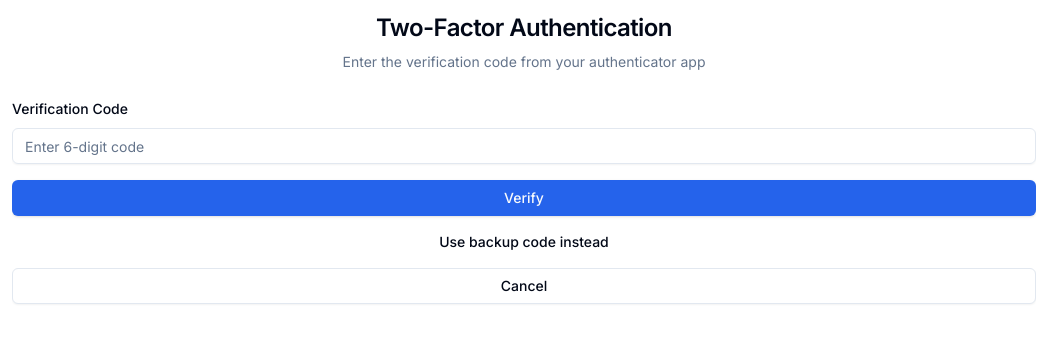
Test case: TwoFactorVerify › should handle verification errors
Note: Submit code
Type "123456" into the field with placeholder "Enter 6-digit code".
click(524, 146); type("123456")  # box [12,128,1036,164]
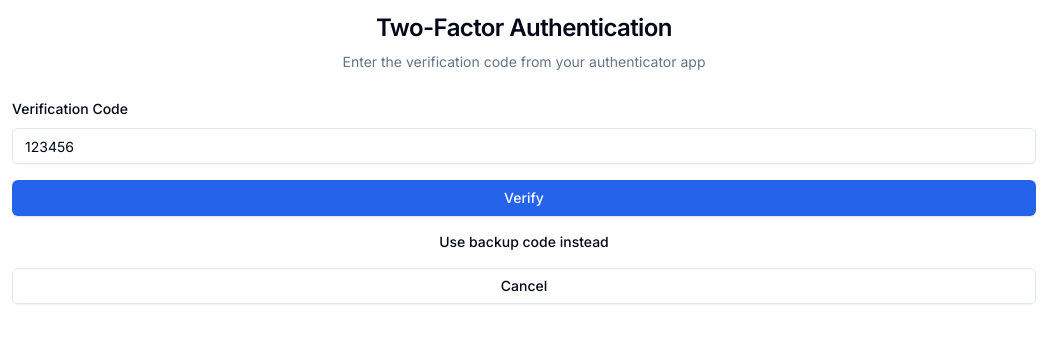
Click the button "Verify".
click(524, 198)  # box [12,180,1036,216]
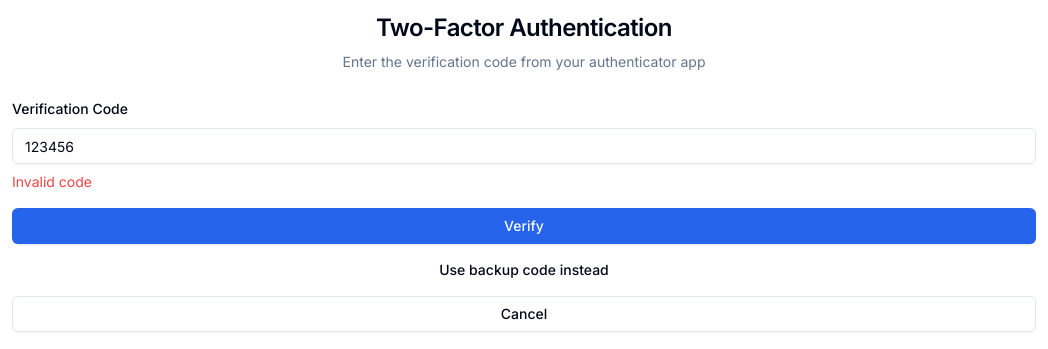
Expected: the button "Verify" is enabled, [12,208,1036,244]
Expected: the text "Invalid code" is shown, [12,173,92,190]
